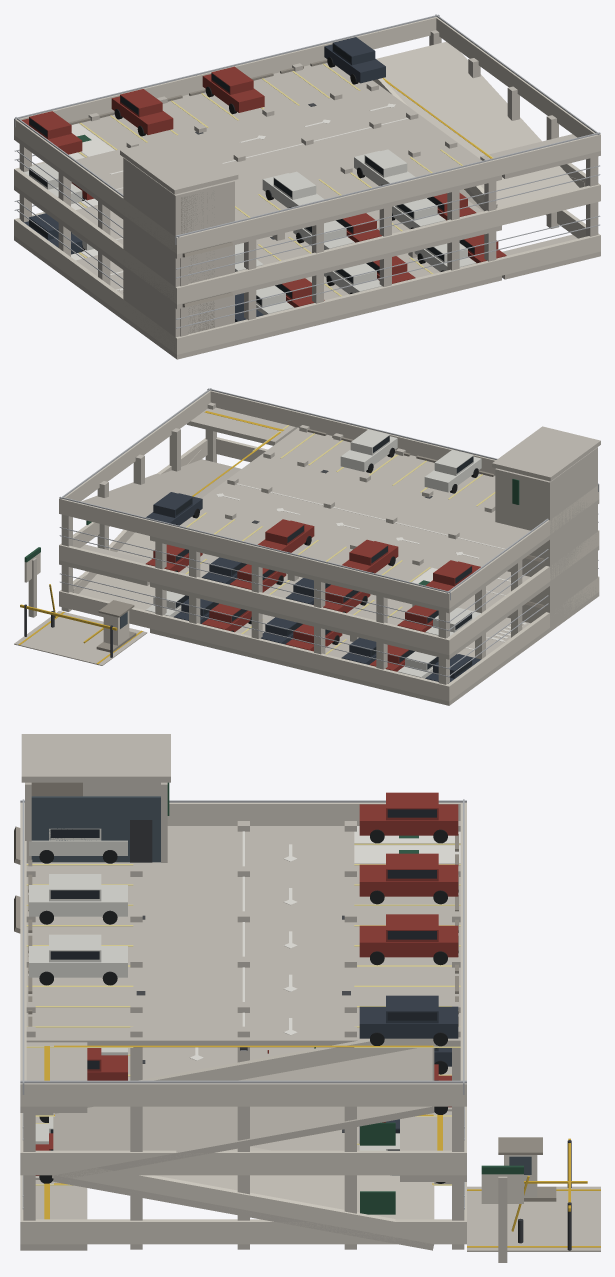
The model's file is parking.glb.
3 views of the same model, one above another, from view 1: azimuth 30°, elevation 25°; view 2: azimuth 150°, elevation 25°; view 3: azimuth 270°, elevation 25° (orthographic). The views are drawn at different scales.
Parts seen in each view (by area): view 1: deck_slab_L2, ramp_run_1, spandrel_south_L1, spandrel_south_L0, spandrel_south_L2, core_wall_west, core_wall_south, spandrel_north_L2, deck_slab_L1, core_roof, deck_slab_L0, spandrel_west_L0 (+45 smaller); view 2: deck_slab_L2, spandrel_north_L1, core_wall_west, spandrel_north_L2, spandrel_north_L0, deck_slab_L1, core_wall_north, ramp_run_1, deck_slab_L0, spandrel_south_L2, core_roof, entry_apron (+40 smaller); view 3: deck_slab_L2, ramp_run_1, spandrel_east_L0, spandrel_east_L2, spandrel_east_L1, ramp_run_0, core_roof, ramp_curb_0, entry_apron, core_glazing_east, spandrel_west_L2, ramp_curb_1 (+40 smaller).
Part boxes in pixels (x1,y1,x2,y2): deck_slab_L2: (14,63,501,258); ramp_run_1: (376,41,579,210); spandrel_south_L1: (175,185,600,304); spandrel_south_L0: (175,235,600,354); spandrel_south_L2: (175,134,600,253); core_wall_west: (123,157,179,356); core_wall_south: (173,180,234,351); spandrel_north_L2: (14,17,437,135); deck_slab_L1: (14,185,501,309); core_roof: (120,135,238,194); deck_slab_L0: (14,236,501,359); spandrel_west_L0: (14,218,180,353); deck_slab_L2: (150,427,599,613); spandrel_north_L1: (59,543,451,654); core_wall_west: (546,447,597,631); spandrel_north_L2: (59,498,451,608); spandrel_north_L0: (59,591,451,701); deck_slab_L1: (150,546,599,659); core_wall_north: (495,468,551,623); ramp_run_1: (81,459,240,517); deck_slab_L0: (150,592,599,705); spandrel_south_L2: (210,390,599,500); core_roof: (492,426,600,481); entry_apron: (14,611,147,665); deck_slab_L2: (26,826,460,1046); ramp_run_1: (53,1045,434,1181); spandrel_east_L0: (20,1219,466,1244); spandrel_east_L2: (20,1083,466,1106); spandrel_east_L1: (20,1150,466,1175); ramp_run_0: (53,1146,434,1250); core_roof: (21,734,170,782); ramp_curb_0: (52,1160,434,1246); entry_apron: (467,1186,600,1251); core_glazing_east: (31,796,160,862); spandrel_west_L2: (167,802,460,825); ramp_curb_1: (55,1038,435,1113).
Bounding box in the file's own units: 31.45 × 11.53 × 26.29.
